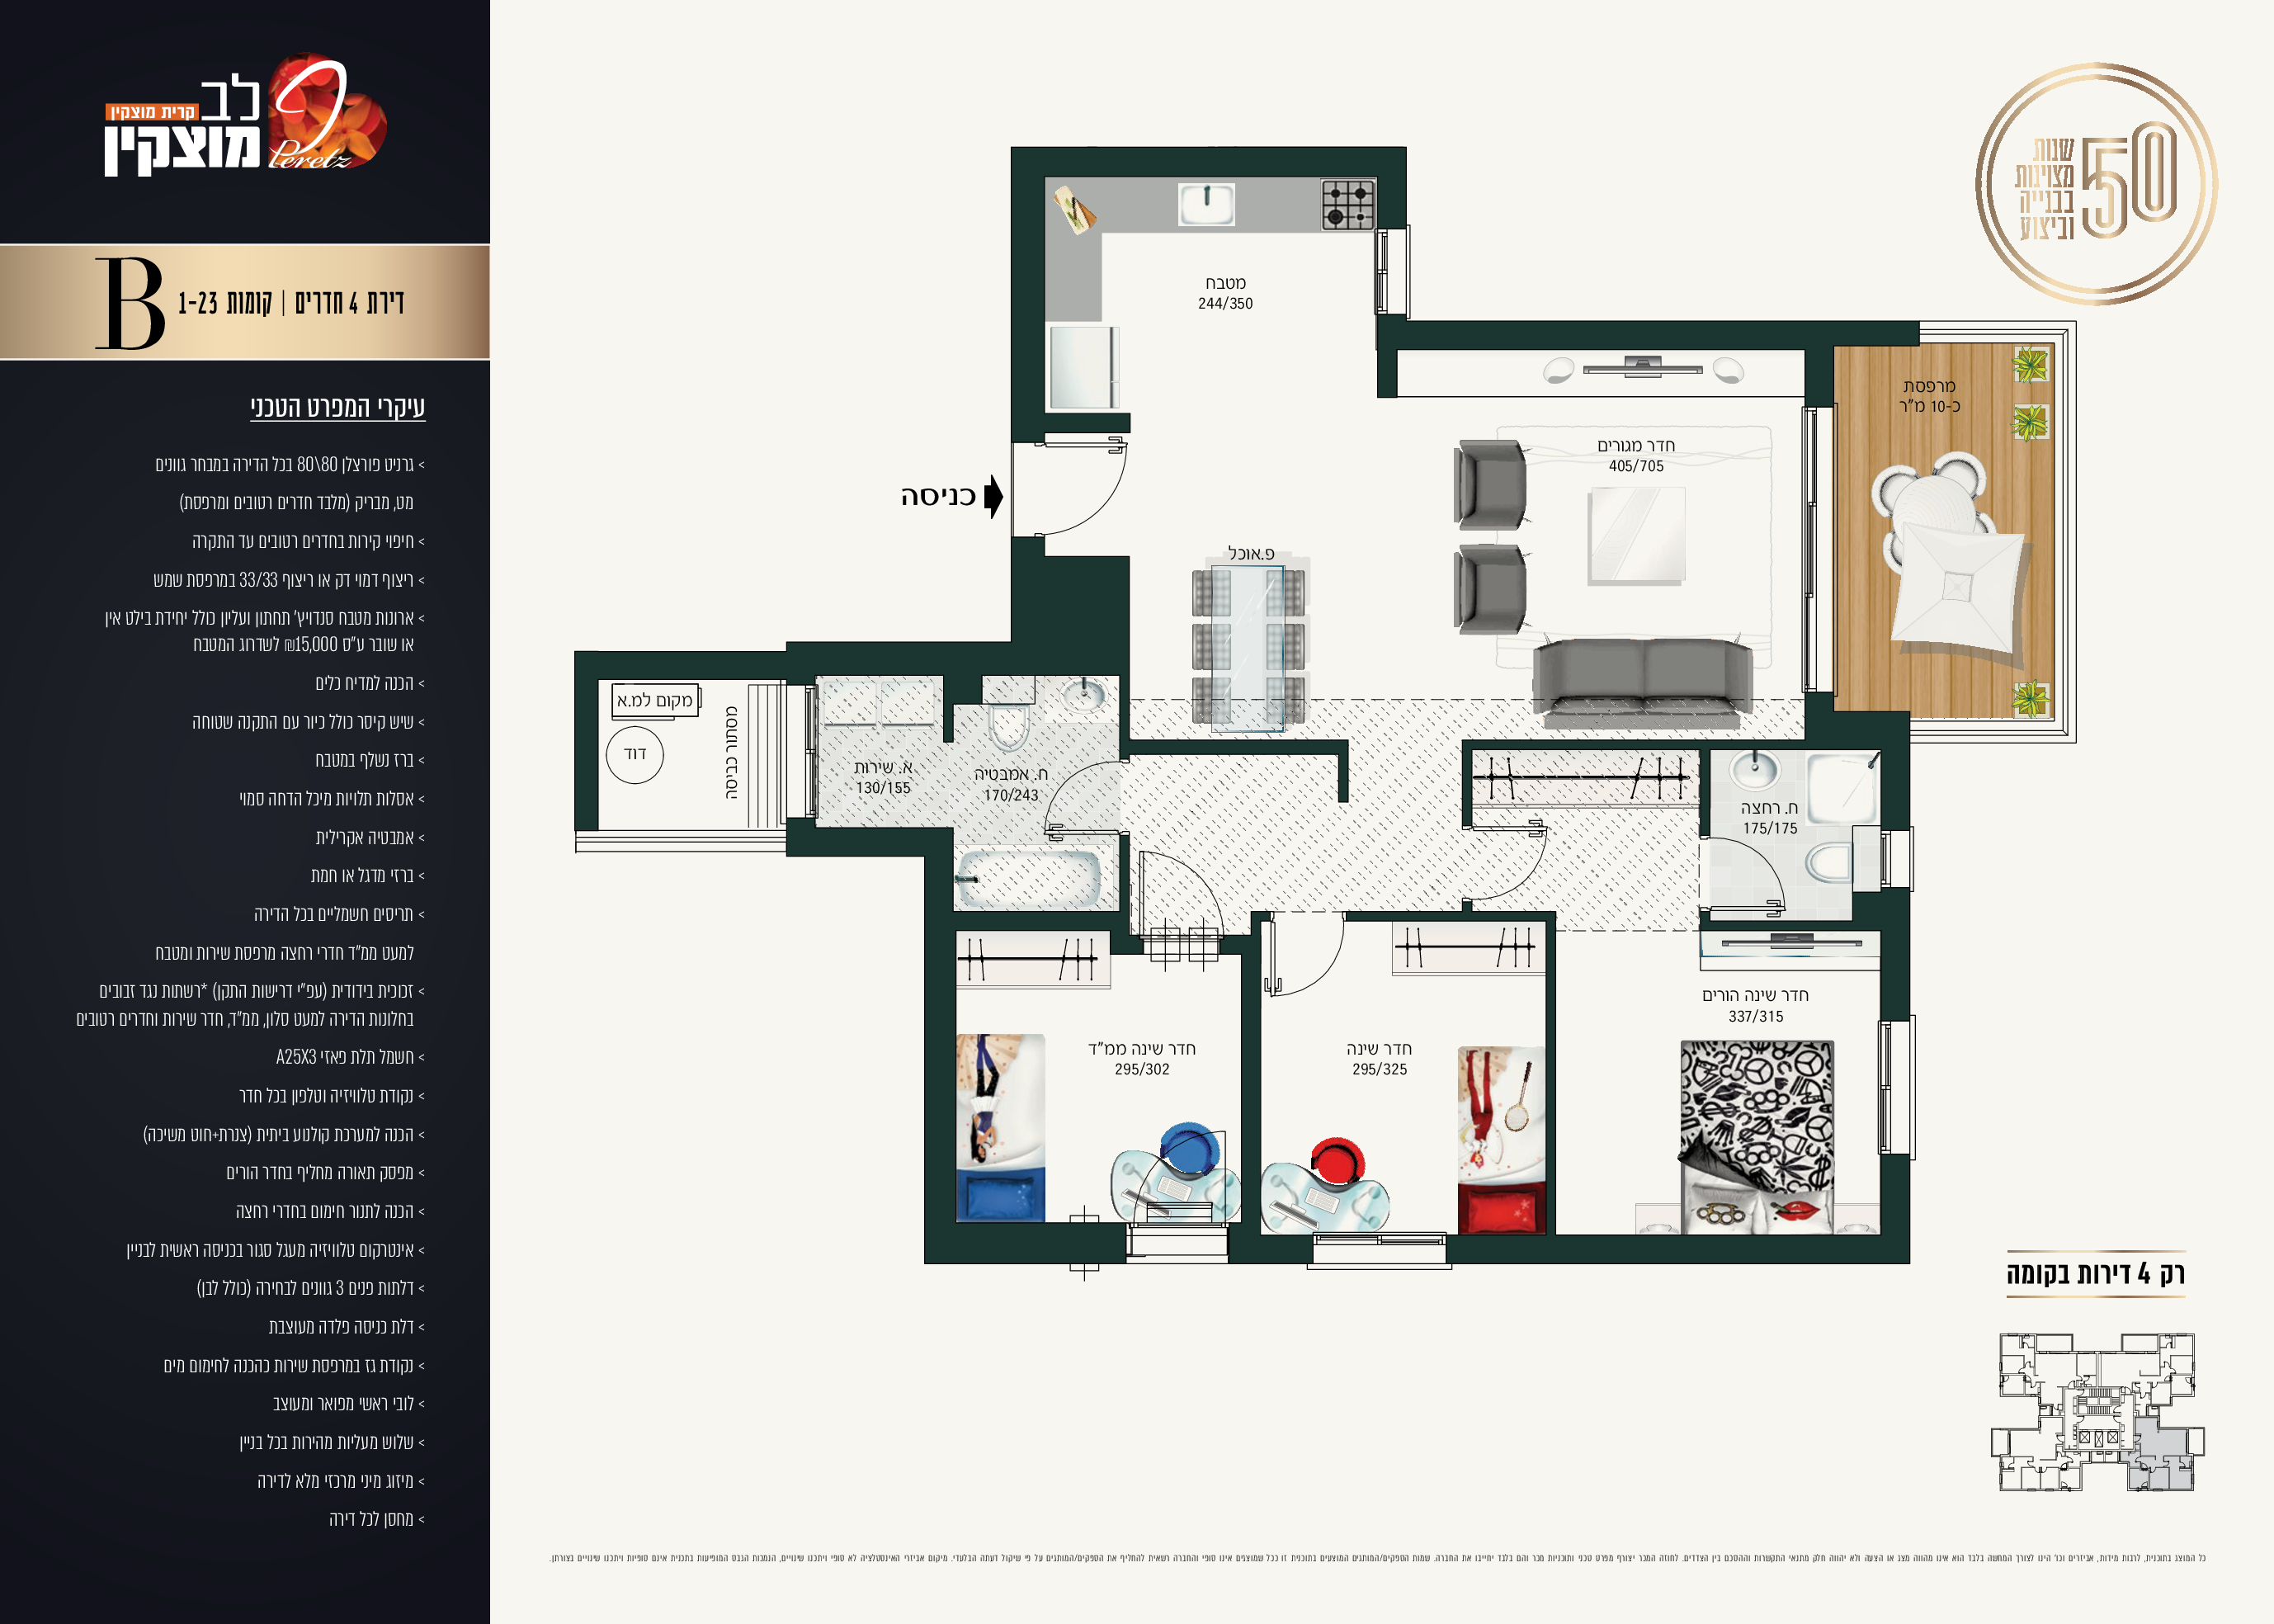door: (1133, 831, 1237, 917), (1262, 926, 1358, 1005), (1068, 434, 1137, 540), (1042, 750, 1111, 844), (1497, 816, 1557, 898), (1745, 840, 1792, 917)
wall: (1374, 320, 1919, 346), (1445, 1236, 1910, 1264), (924, 854, 956, 1265), (1039, 146, 1423, 176), (1010, 148, 1044, 443), (923, 1222, 1126, 1264), (786, 643, 1016, 675), (1241, 937, 1262, 1257), (573, 650, 780, 680), (786, 826, 954, 856), (571, 650, 597, 831), (1545, 912, 1557, 1237), (951, 910, 1126, 932), (1460, 738, 1805, 749), (1882, 889, 1908, 1018), (1880, 1155, 1910, 1265), (1228, 1236, 1314, 1264), (1376, 144, 1406, 225), (1805, 346, 1835, 408), (1121, 837, 1130, 956)
window: (1126, 1118, 1230, 1209), (2056, 323, 2079, 677), (1801, 408, 1828, 689), (578, 830, 782, 851), (1880, 1021, 1914, 1149), (791, 684, 817, 817), (1374, 228, 1411, 313), (1882, 830, 1908, 886)
